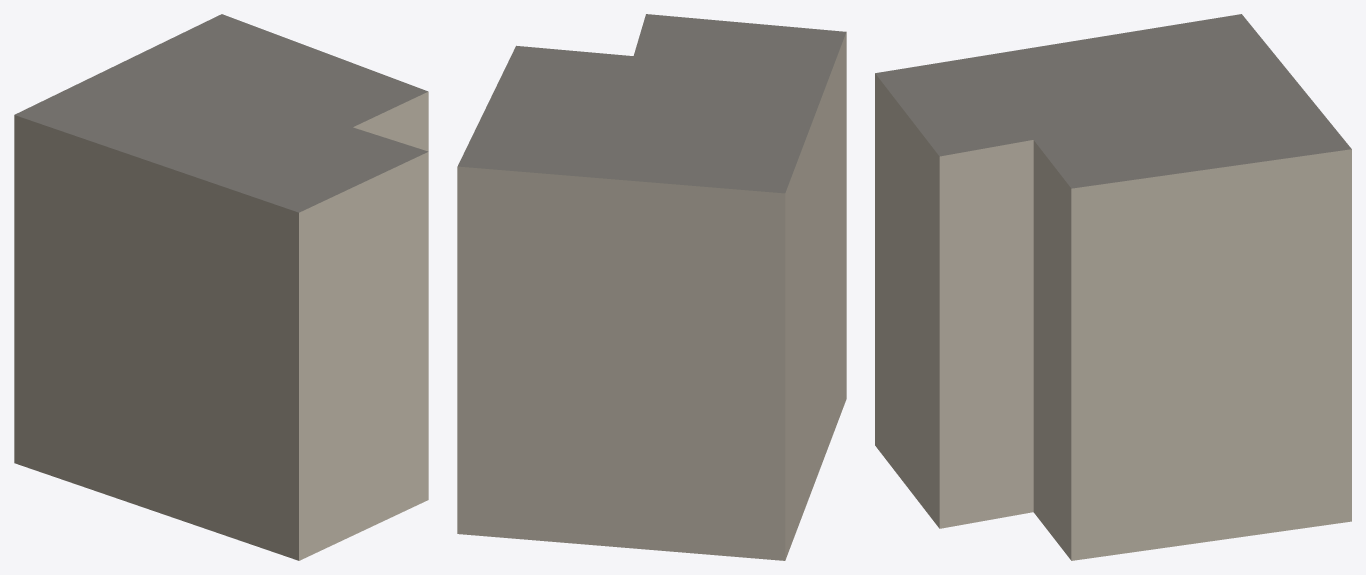
3 views of the same model, side by side, from view 1: azimuth 30°, elevation 25°; view 2: azimuth 150°, elevation 25°; view 3: azimuth 270°, elevation 25° (orthographic). The views are drawn at different scales.
Visible parts, largest first — view 1: HP-w1198550837; view 2: HP-w1198550837; view 3: HP-w1198550837.
Boxes of the visible parts, left/top/right/bottom form: HP-w1198550837: left=14, top=14, right=428, bottom=560; HP-w1198550837: left=457, top=14, right=846, bottom=560; HP-w1198550837: left=875, top=14, right=1351, bottom=560.
Bounding box in the file's own units: 18.1 × 18 × 20.89.
